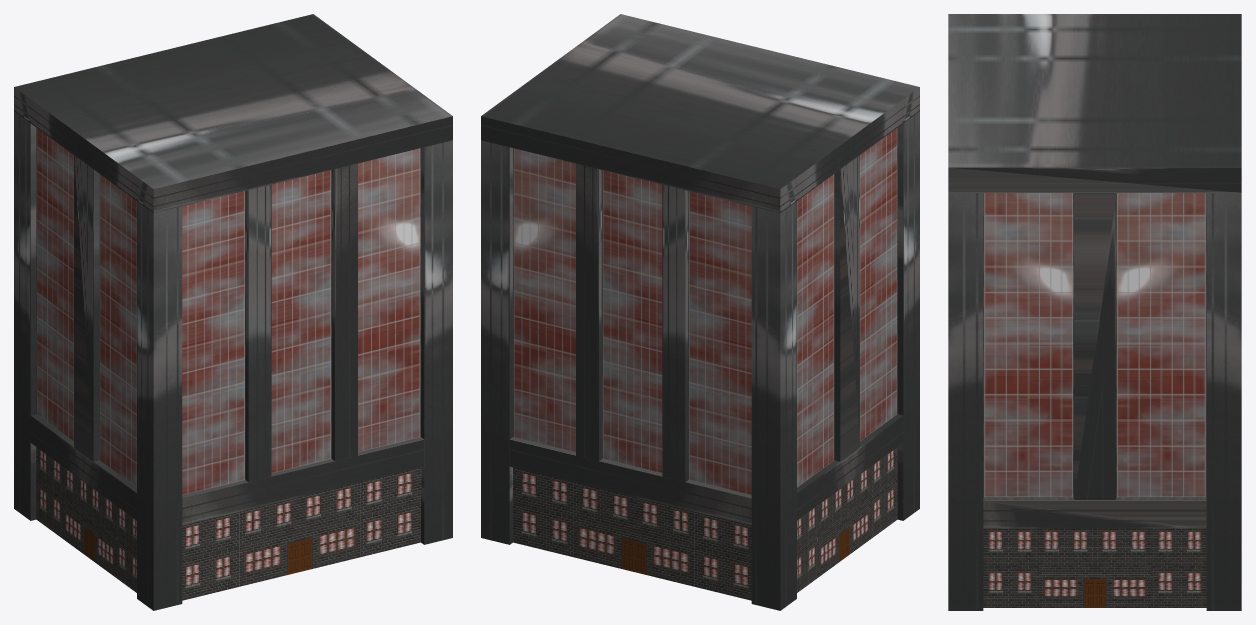
The model's file is Building - 3.FBX.
The picture shows the model from 3 angles, left to right: view 1: azimuth 30°, elevation 25°; view 2: azimuth 150°, elevation 25°; view 3: azimuth 270°, elevation 25°; orthographic projection. The views are drawn at different scales.
Visible parts, largest first — view 1: Box01; view 2: Box01; view 3: Box01.
Part boxes in pixels (x1,y1,x2,y2): Box01: (14, 14, 452, 610); Box01: (481, 14, 919, 610); Box01: (948, 14, 1241, 610).
Bounding box in the file's own units: 26 × 21 × 35.
Materials: 1 (1 with a texture image).
